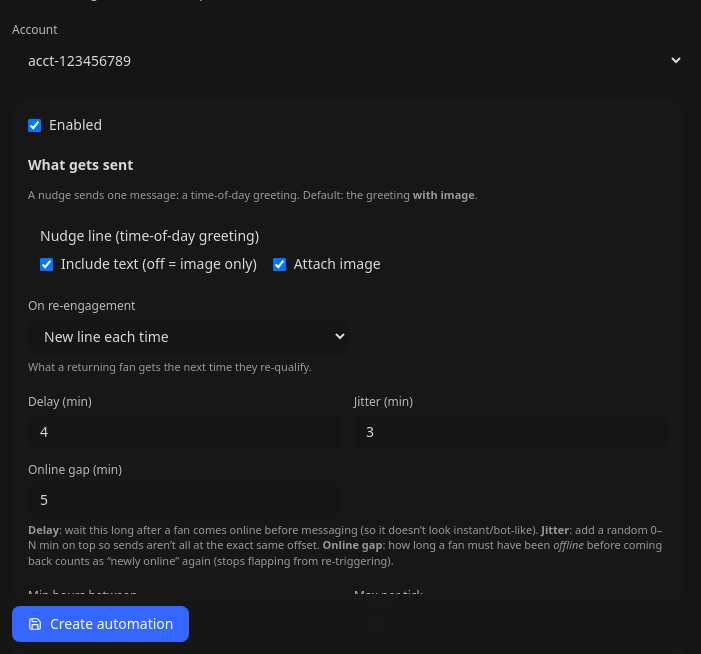
NudgeOnlineTab over its own save › an account switch mid-save refreshes the saving account, not the shown one
The width and height of the screenshot is (701, 654).
Replace the text in the number field labelled "Delay (min)" with "9" at (185, 432), box [28,414,342,450]
(page scrolled)
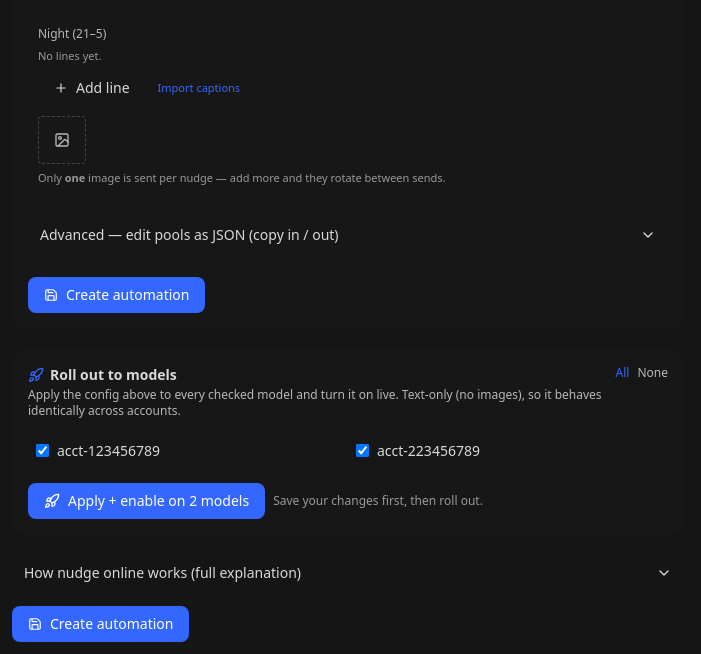
Click the 1st button "Create automation" at (117, 295), box [28,277,206,313]
(page scrolled)
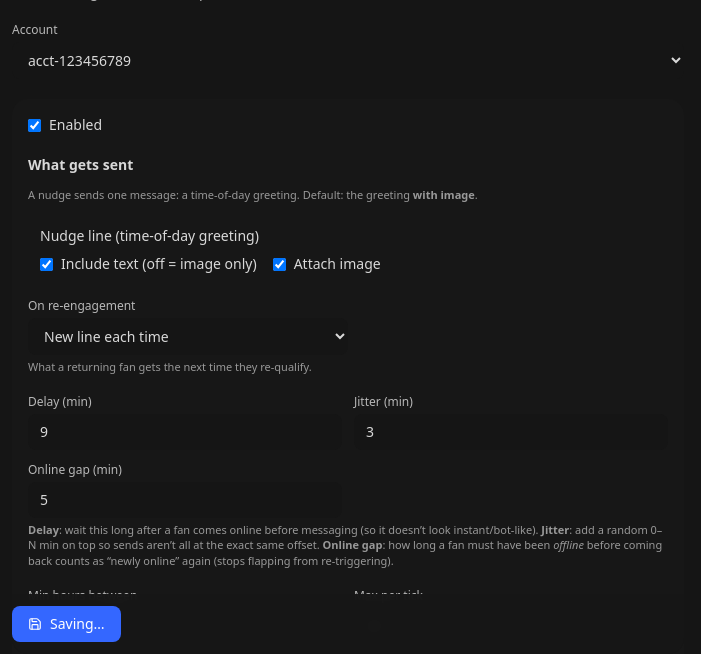
Select "acct-223456789" in the dropdown labelled "Account" at (348, 60), box [12,42,684,79]
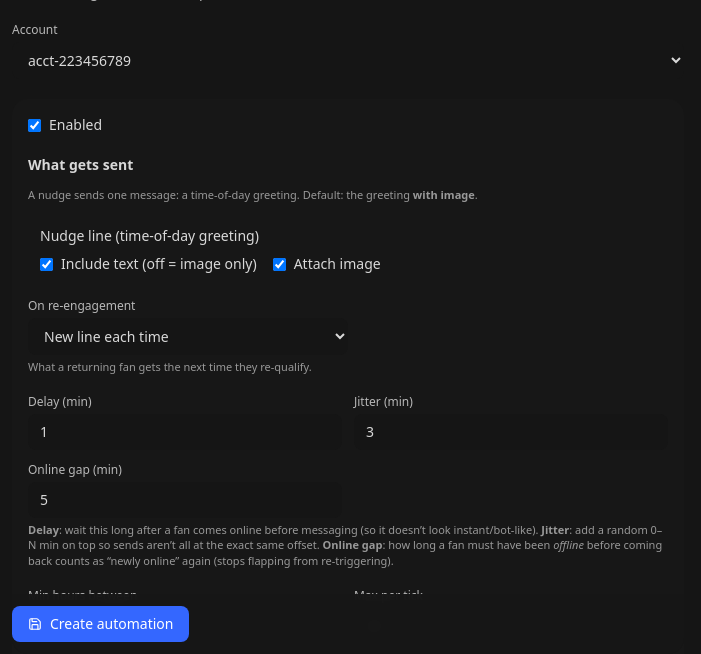
Check: the number field labelled "Delay (min)" holds "1", box [28,414,342,450]
Select "acct-123456789" in the dropdown labelled "Account" at (348, 60), box [12,42,684,79]
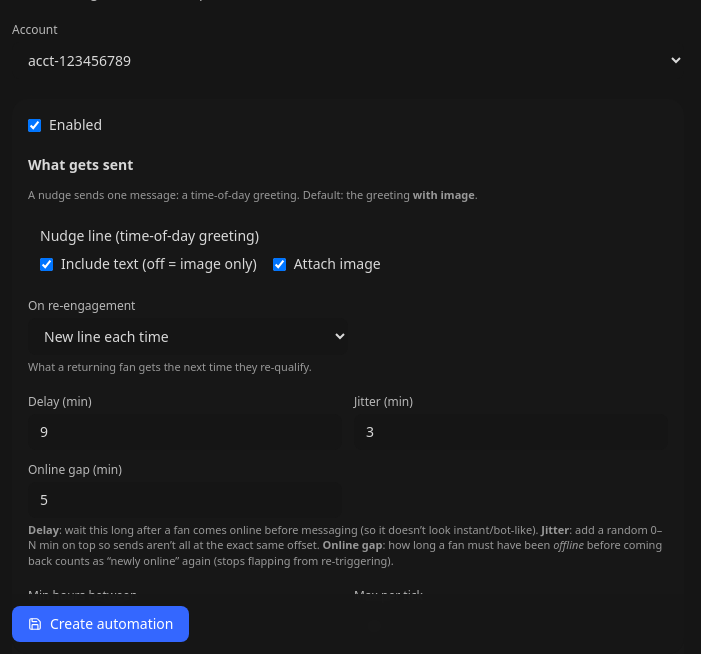
Check: the number field labelled "Delay (min)" holds "9", box [28,414,342,450]
